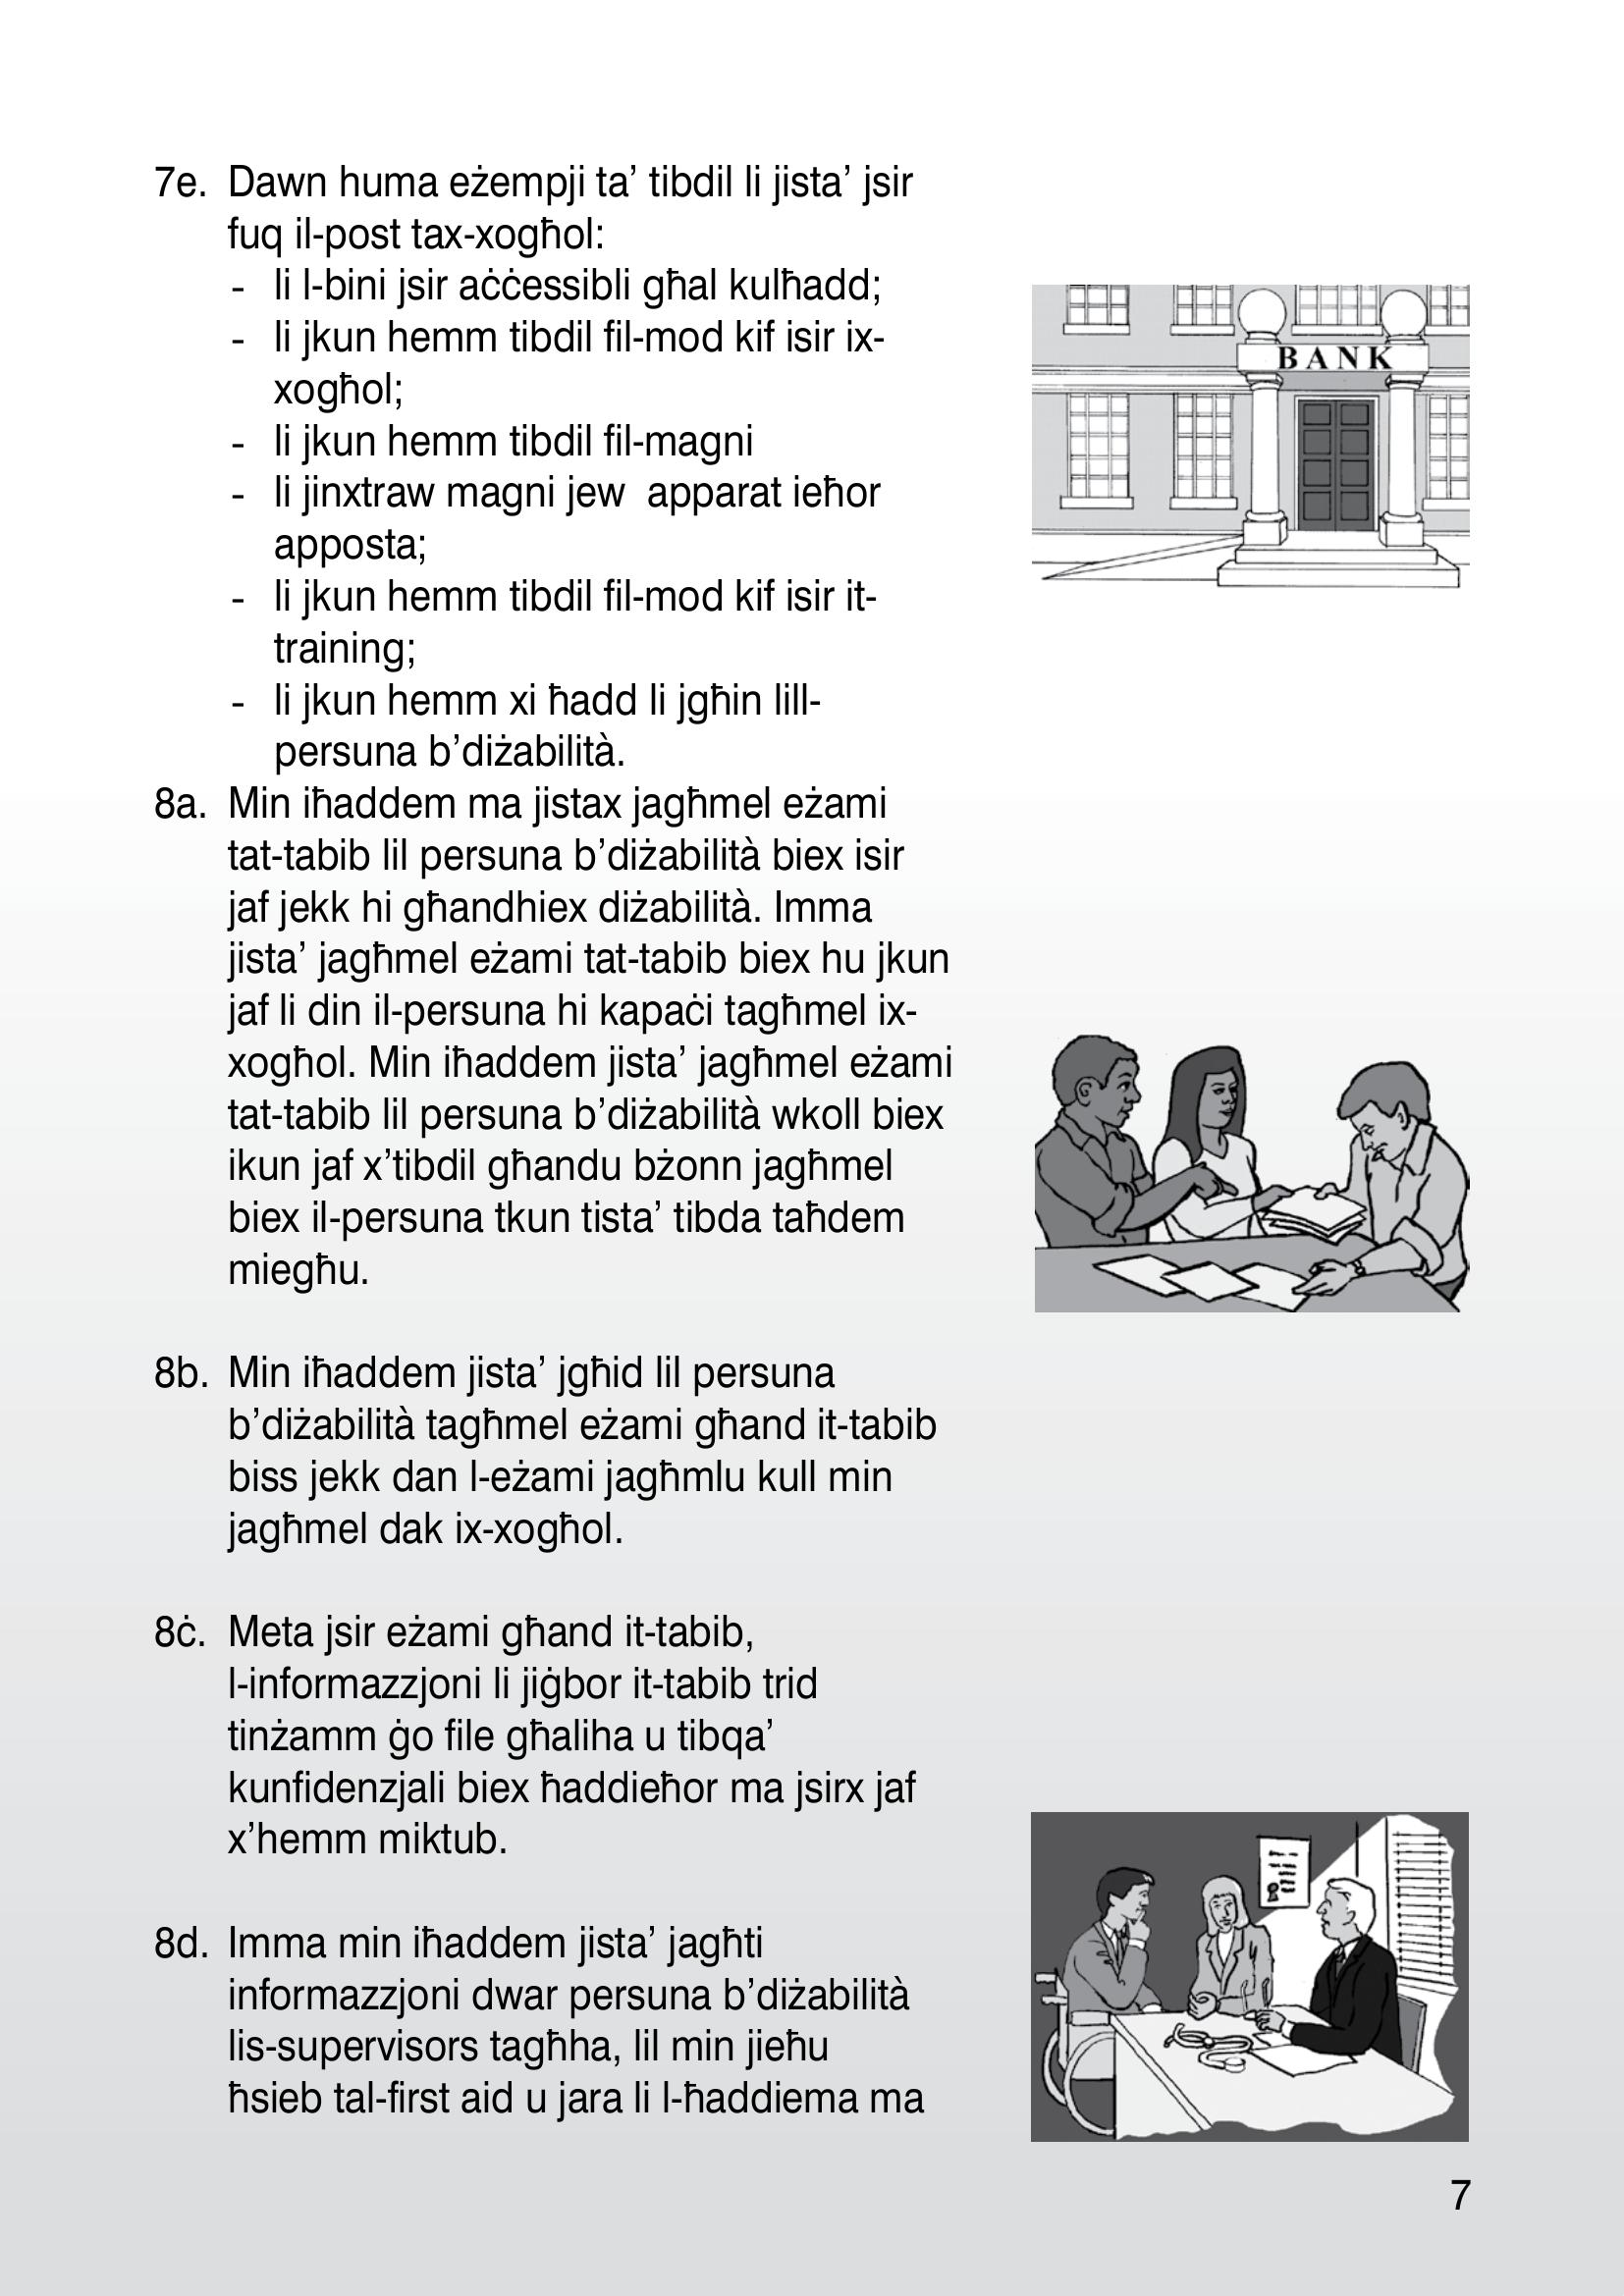text: (116, 132, 977, 2150)
